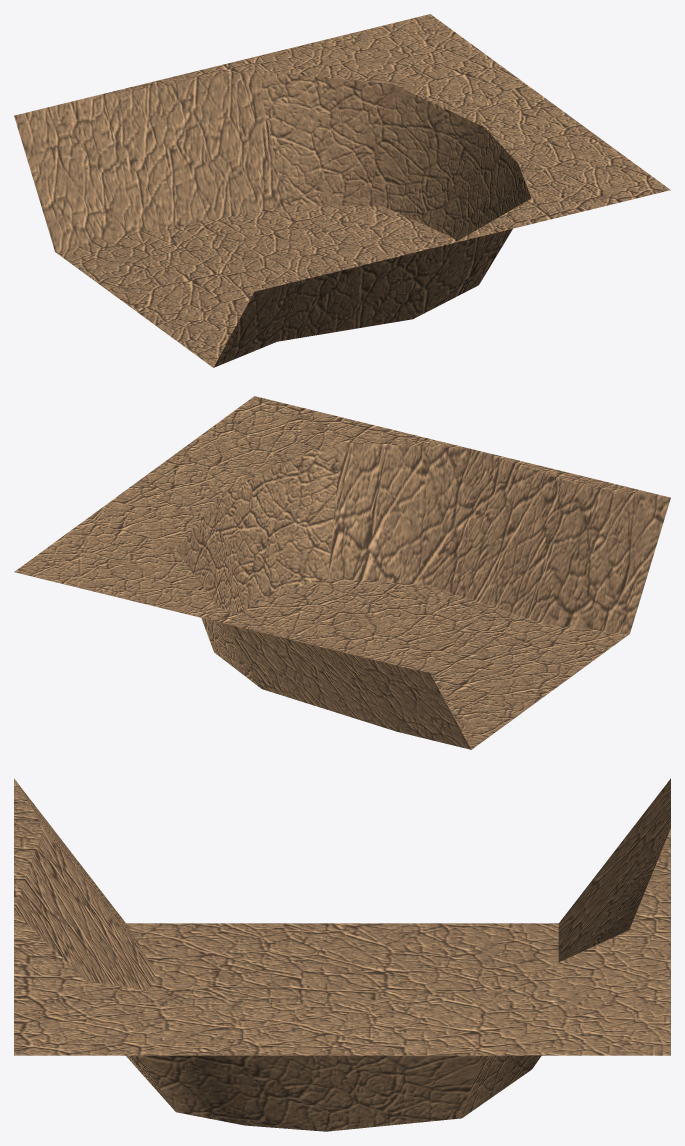
The model's file is des_trench_end_e.obj.
3 renders of one model, top to bottom at view 1: azimuth 30°, elevation 25°; view 2: azimuth 150°, elevation 25°; view 3: azimuth 270°, elevation 25°, orthographic. The views are drawn at different scales.
Parts seen in each view (by area): view 1: polySurface2; view 2: polySurface2; view 3: polySurface2.
Boxes of the visible parts, bbox=[...] form: polySurface2: bbox=[14, 14, 670, 367]; polySurface2: bbox=[14, 396, 670, 749]; polySurface2: bbox=[14, 778, 670, 1131].
Size of the model in its own units: 0.9995 by 0.2437 by 1.
